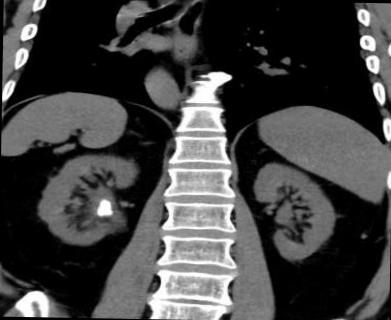Tas_Var: (95, 198, 113, 218)
